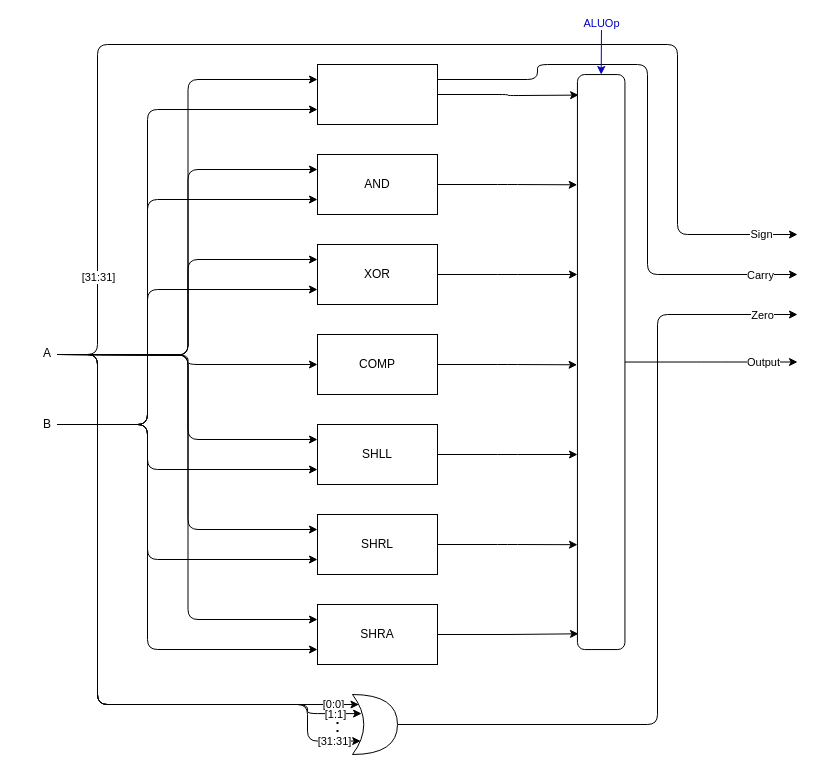
The diagram is 823 pixels wide and 772 high, and some of its shapes have lost their labels. Each missing label, with the box of its shape:
ADD: (316, 64, 438, 124)
MUX: (576, 74, 625, 650)
